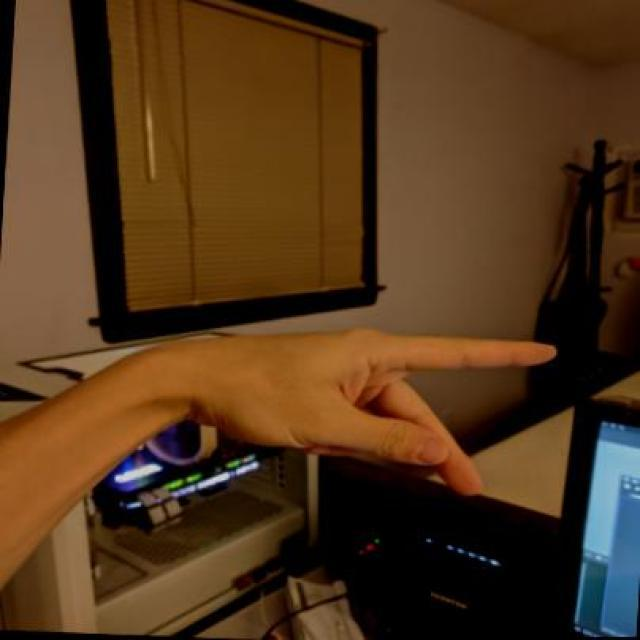P: (149, 299, 577, 509)
